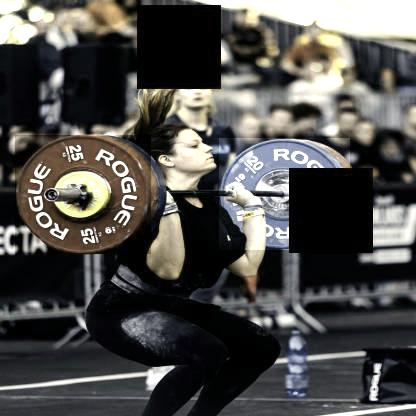barbell: (16, 135, 151, 255), (219, 138, 351, 250)
